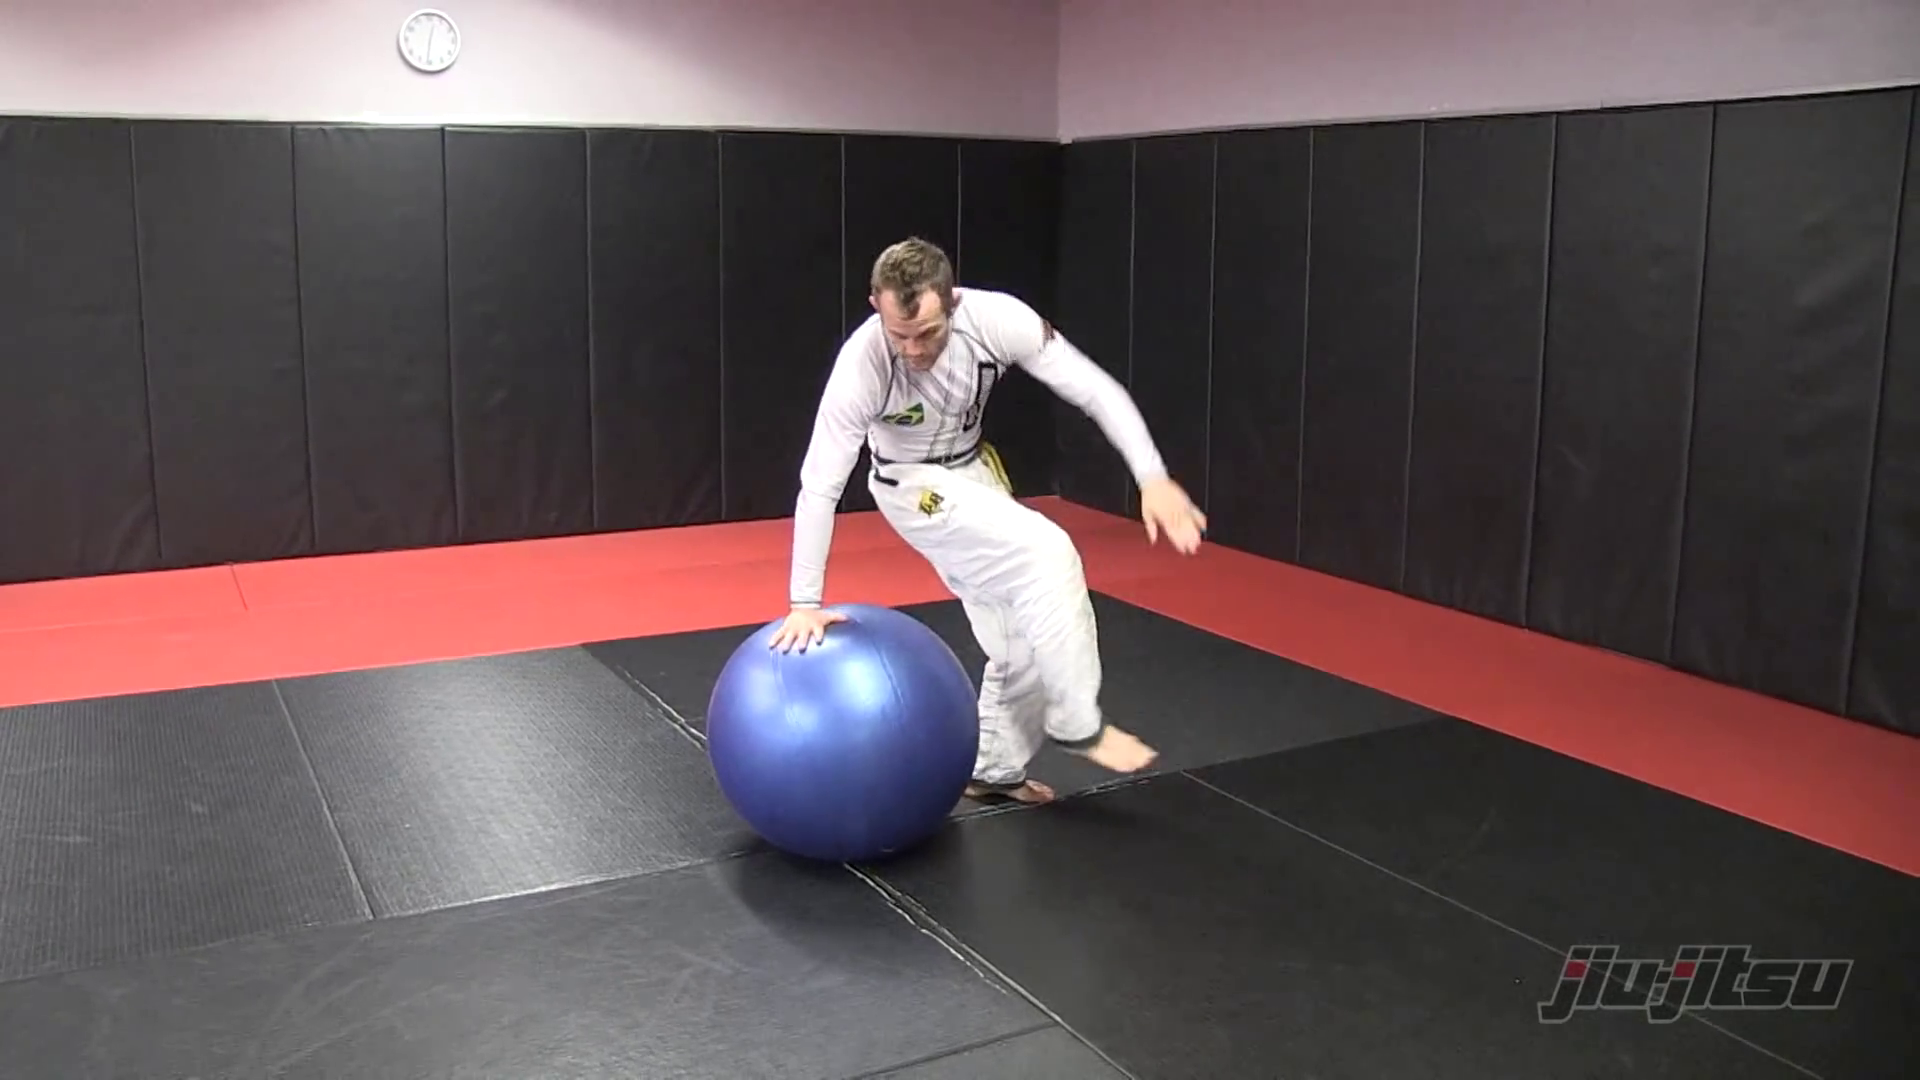yogaball: (688, 600, 989, 873)
